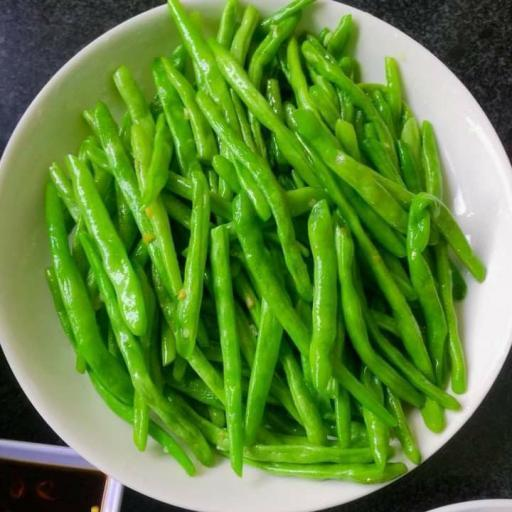buncis_rebus: (41, 0, 503, 494)
